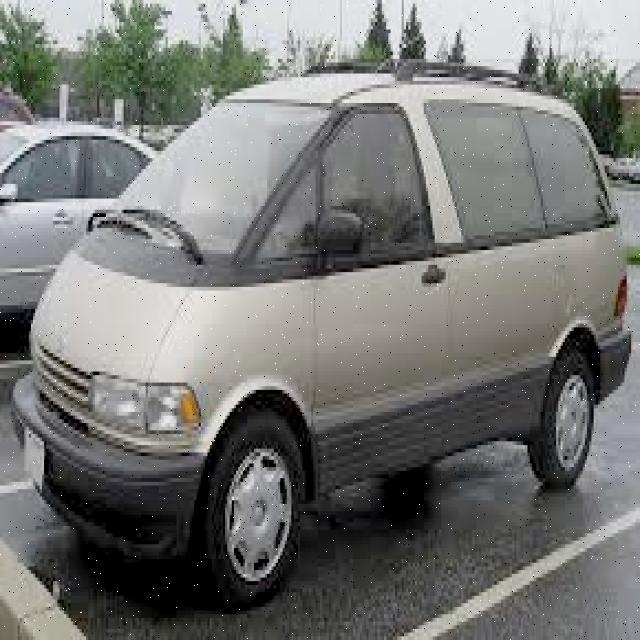Van: (3, 52, 631, 607)
